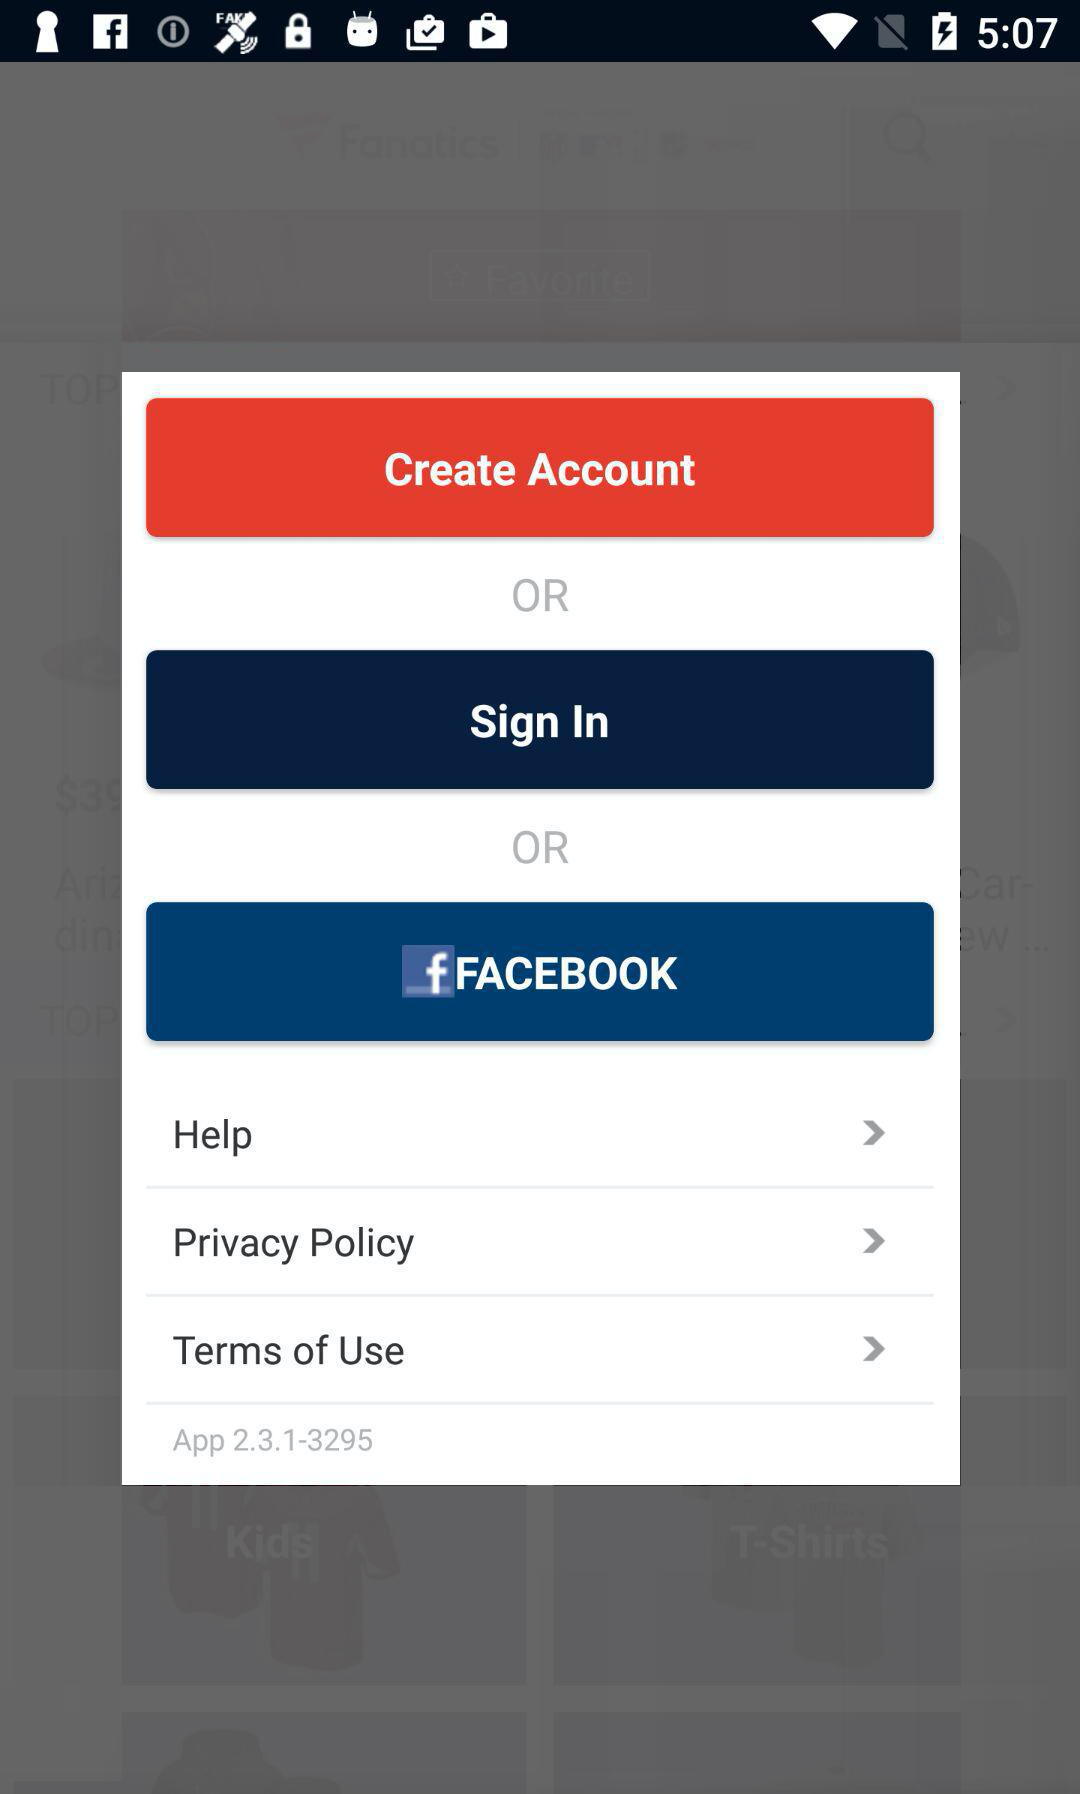Icon: (862, 1120, 887, 1146), (863, 1228, 887, 1255), (863, 1337, 887, 1362)
Modal: (120, 372, 960, 1486)
Text: (174, 1228, 415, 1265), (172, 1335, 404, 1366), (173, 1429, 375, 1457), (176, 1119, 252, 1157), (512, 830, 571, 864), (512, 579, 571, 613)
TextButton: (146, 902, 934, 1042), (146, 399, 937, 537), (146, 651, 935, 789)
UpperTaskBar: (1, 1, 1080, 64)
